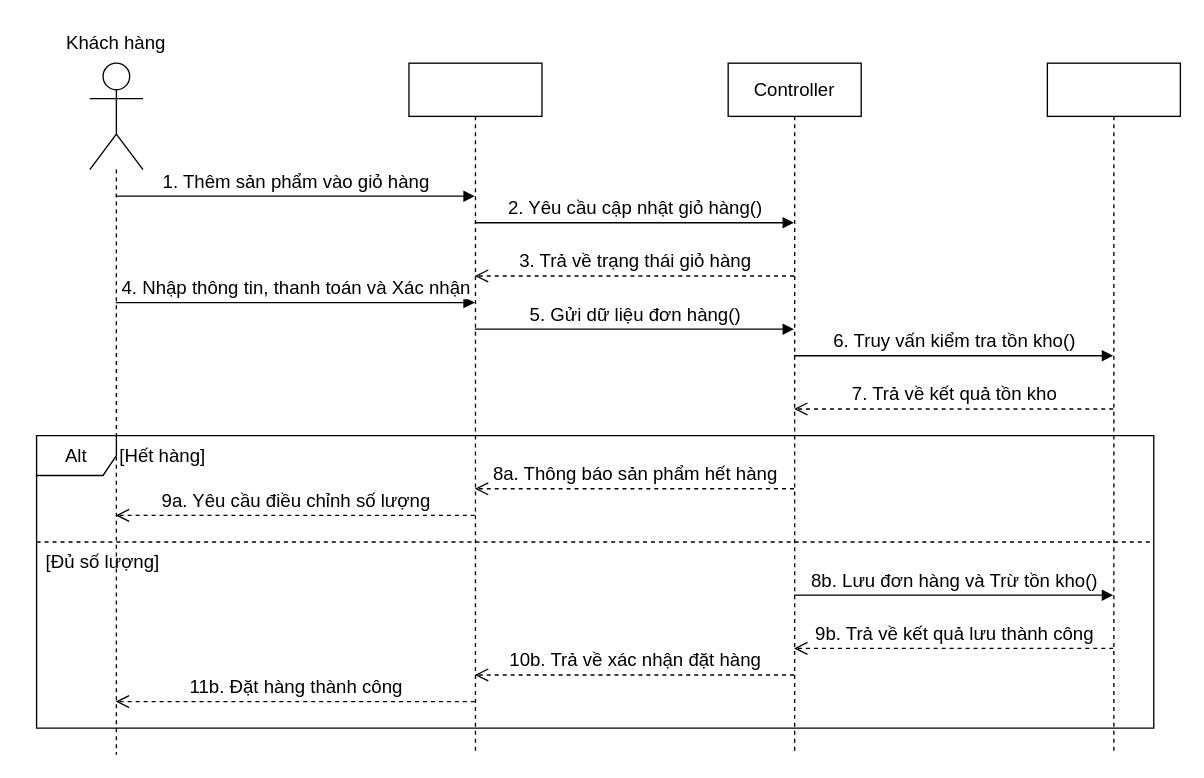
Some shapes in this 1204 by 778 pixel diagram are drawn without their labels. Here are the shapes that lost their labels. From the top down, the box of each, then its label:
(408, 62, 542, 755): Boundary
(1046, 62, 1180, 755): Database
